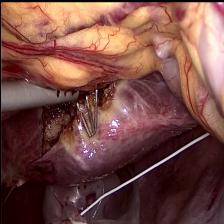Irrigator: (34, 72, 82, 110)
Specimen Bag: (40, 174, 140, 224)
